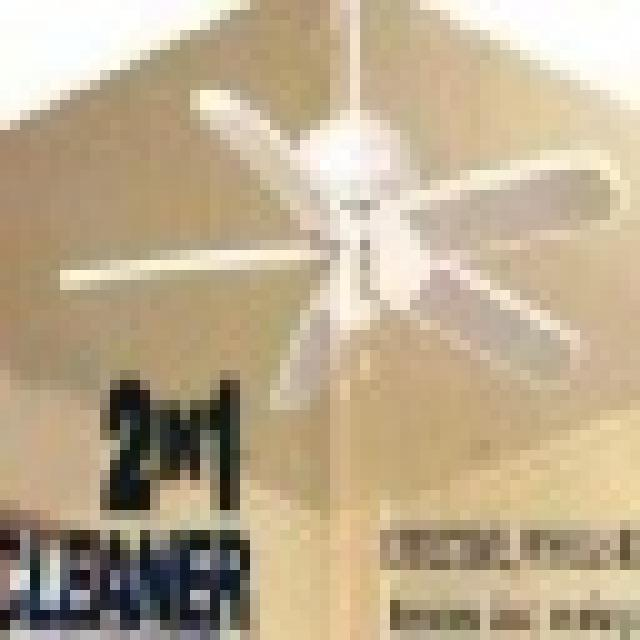Bulb: (60, 60, 640, 423)
